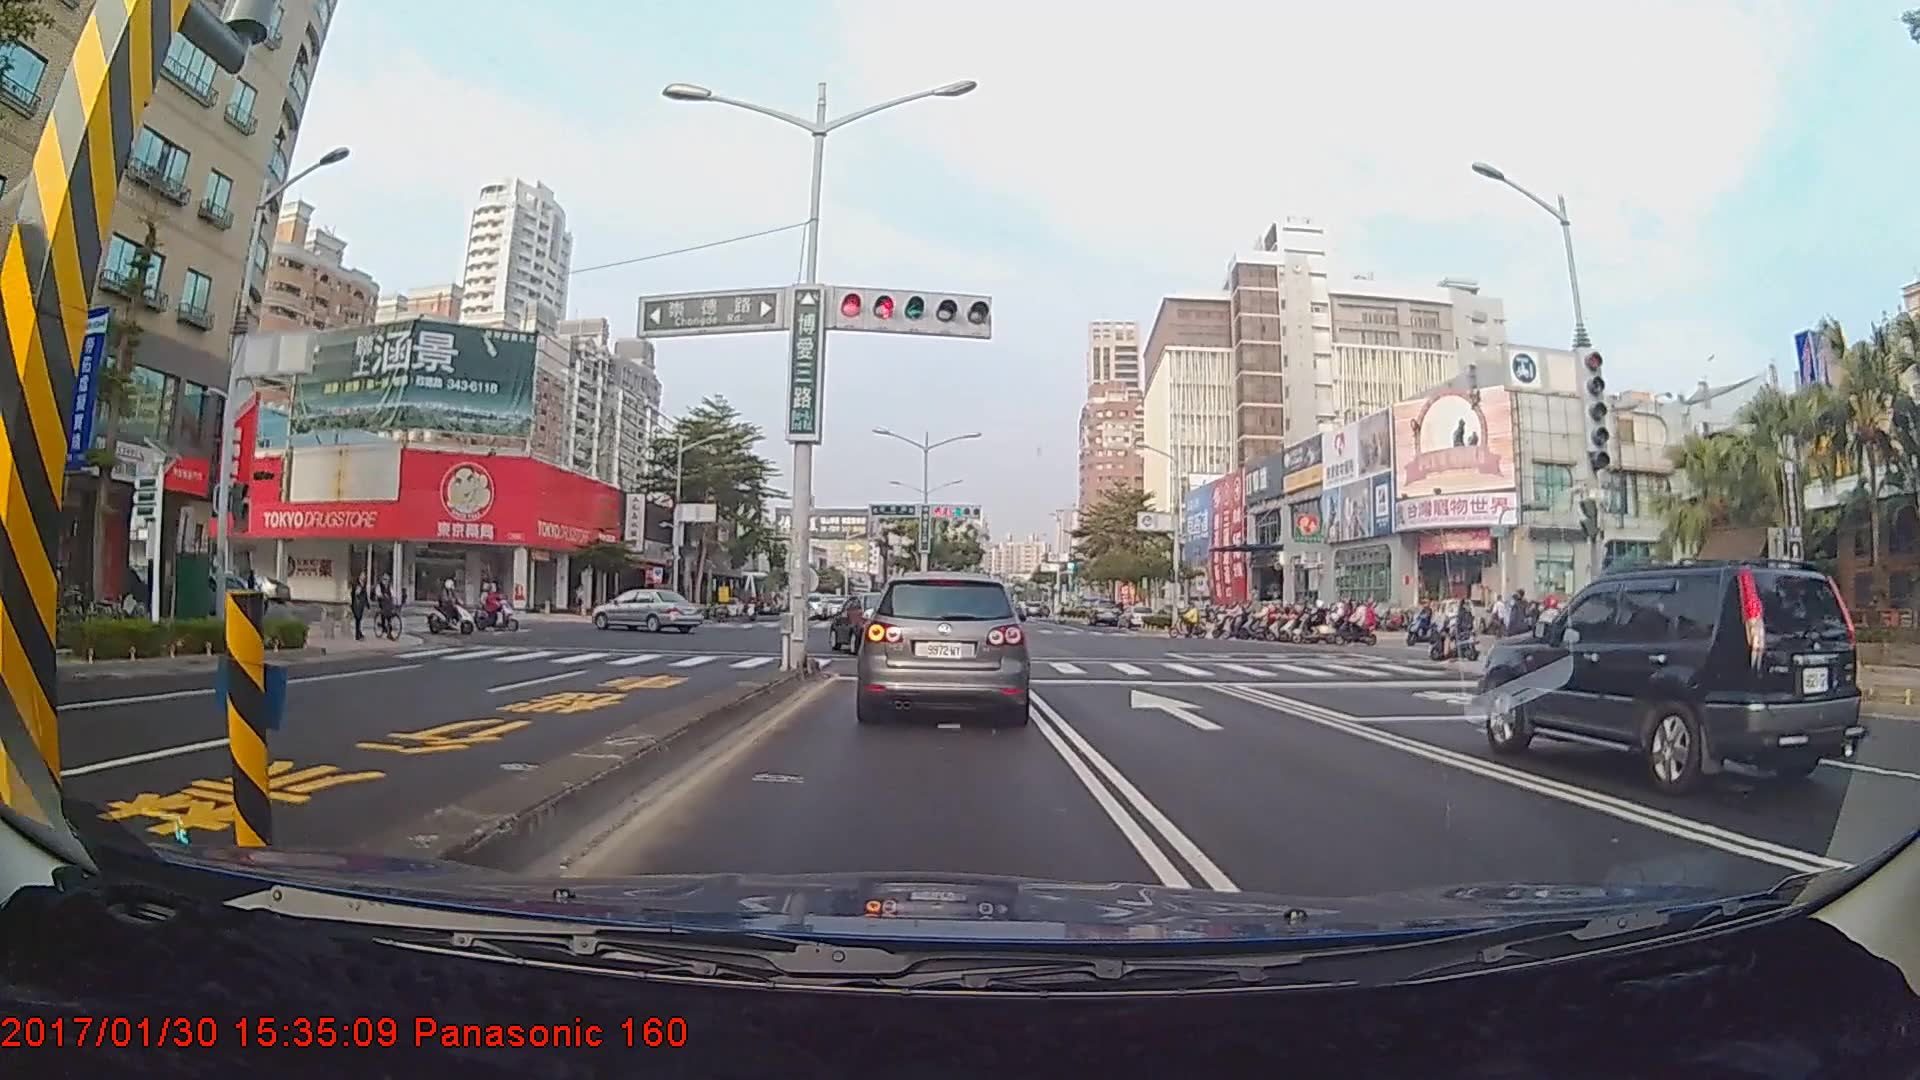pedestrian: (1502, 588, 1531, 670), (349, 565, 372, 645)
rider: (1432, 600, 1491, 663), (430, 577, 482, 639), (375, 566, 413, 639), (470, 577, 520, 632), (1338, 593, 1382, 647), (1306, 601, 1352, 644), (1173, 599, 1211, 638)
vehicle: (1471, 561, 1865, 799), (853, 568, 1032, 722), (827, 591, 922, 656), (591, 585, 703, 633), (1088, 599, 1121, 627)
